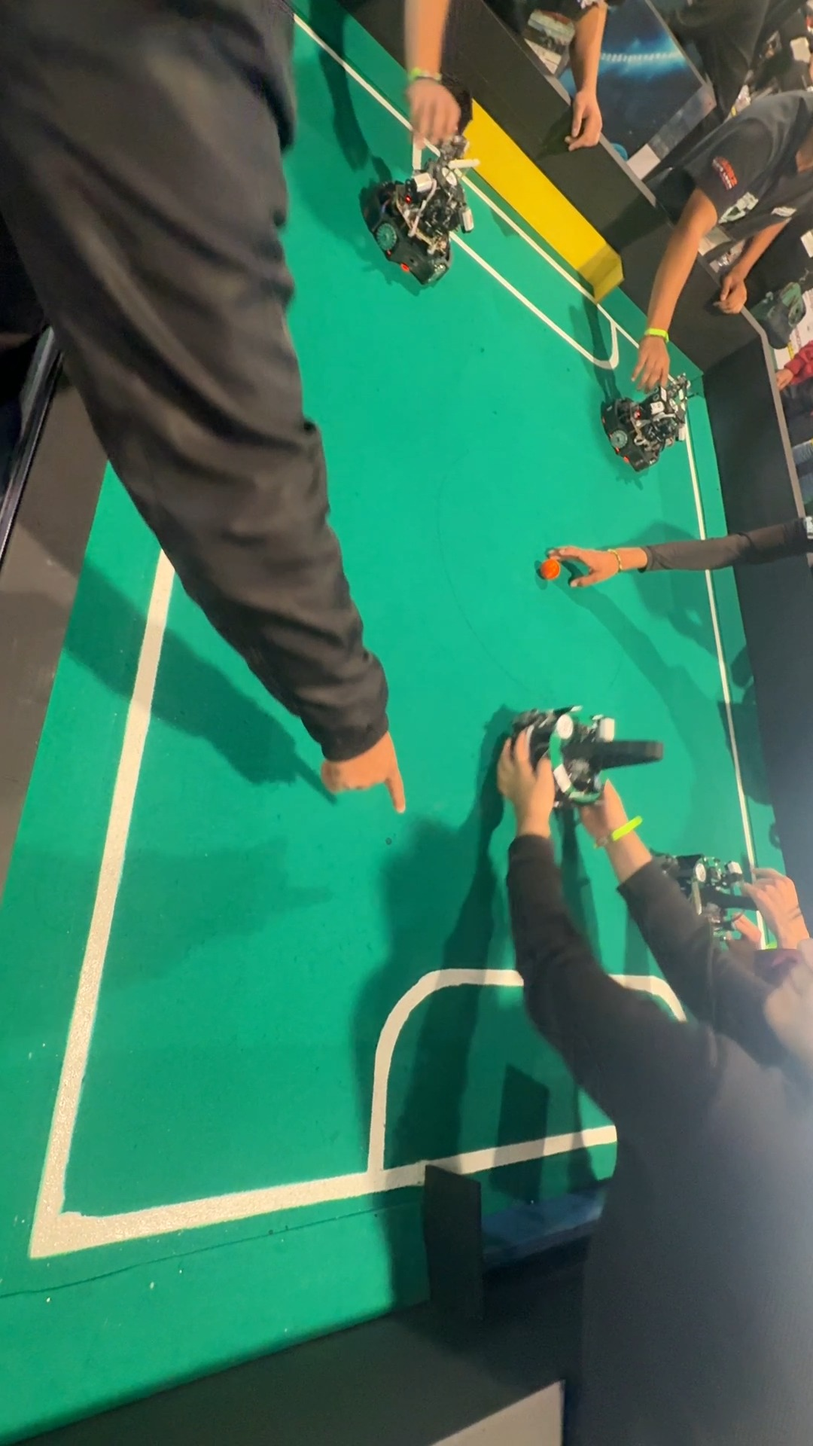Robot: (351, 146, 480, 304), (515, 697, 660, 818), (653, 846, 760, 941), (598, 382, 694, 478)
pelota: (542, 561, 561, 583)
